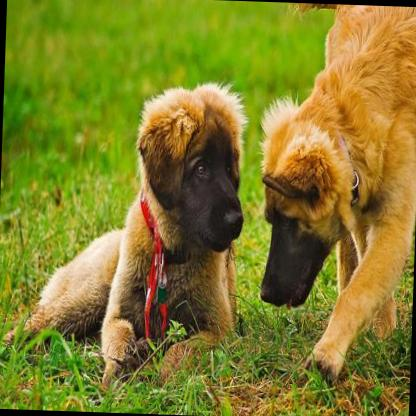Leonberg: (0, 72, 249, 398), (249, 2, 416, 389)
